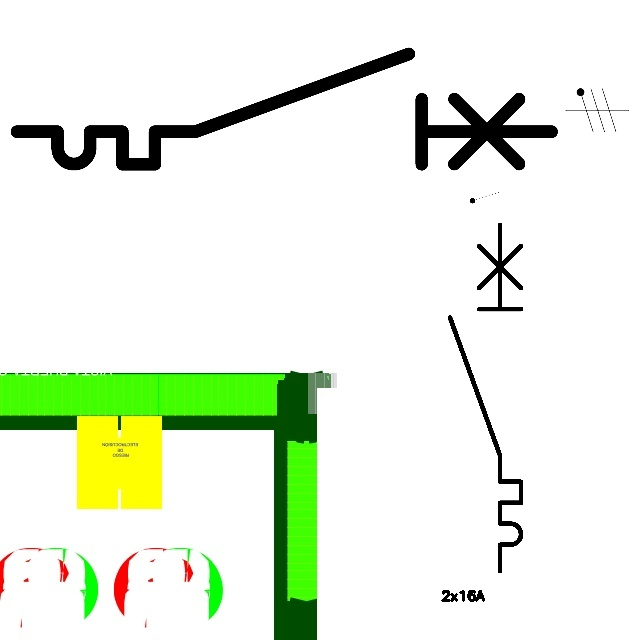interruptor_termomagnetico: (3, 40, 565, 178), (441, 216, 530, 580)
